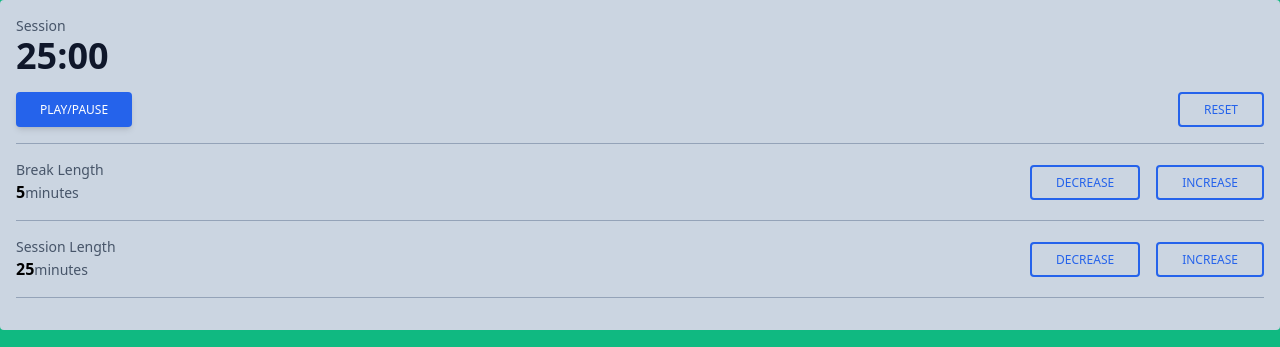
Test: <TwentyFivePlusFiveClock /> › When I click the element with the id of break-decrement, the value within id="break-length" decrements by a value of 1, and I can see the updated value
Expected: the text with test id "break-length" reads "5", [16, 181, 25, 203]
Step 1. Click the button with test id "break-decrement" → (1085, 182), box [1030, 164, 1140, 200]
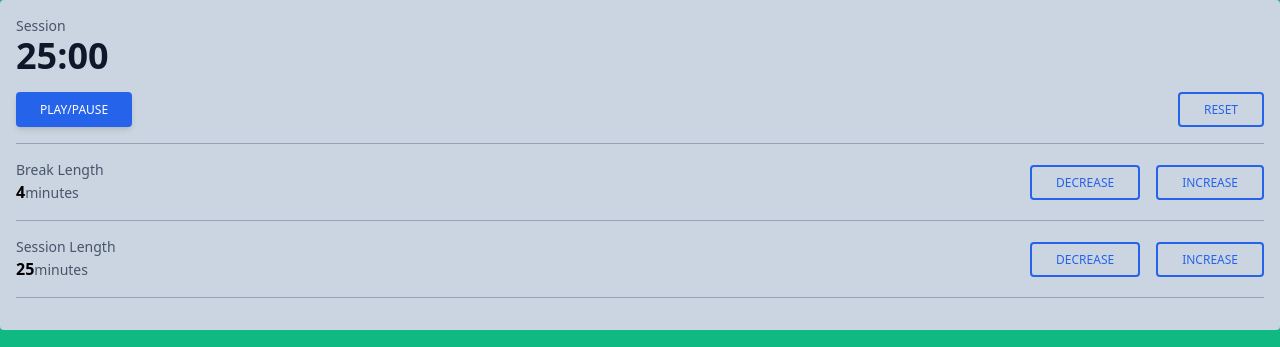
Expected: the text with test id "break-length" reads "4", [16, 181, 25, 203]
